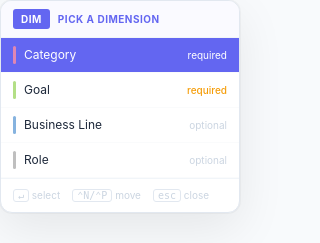
Test case: DimensionPopover › shows commitments:role:goals goal options for a commitments:role:goals source dimension
Click the element with test id "dim-item" showing "Goal required": [120, 90] box [1,73,239,108]
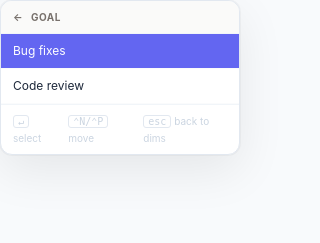
Check: the text "Bug fixes" is shown, box [13,42,66,60]
Check: the text "Code review" is shown, box [13,77,84,95]
